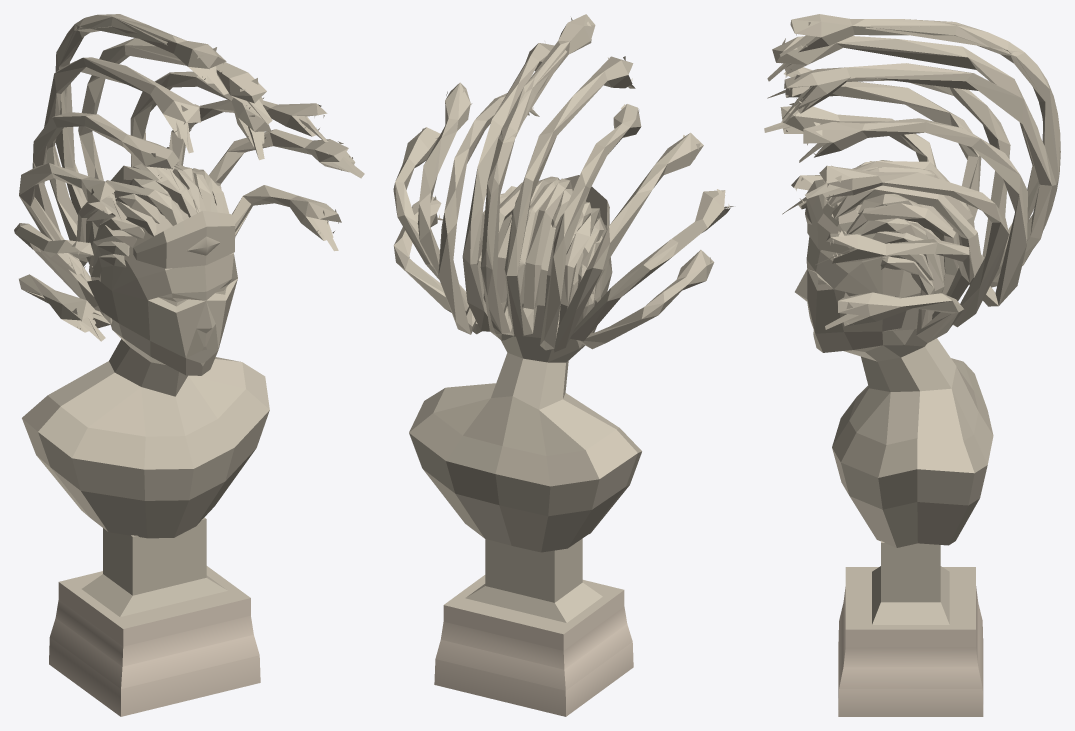
File: Medusa_Bust.fbx
3 renders of one model, left to right at view 1: azimuth 30°, elevation 25°; view 2: azimuth 150°, elevation 25°; view 3: azimuth 270°, elevation 25°, orthographic. The views are drawn at different scales.
Visible parts, largest first — view 1: Medusa Bust; view 2: Medusa Bust; view 3: Medusa Bust.
Boxes of the visible parts, x1,y1,x2,y2 form: Medusa Bust: [14, 14, 364, 716]; Medusa Bust: [393, 14, 733, 716]; Medusa Bust: [764, 14, 1060, 716].
Size of the model in its own units: 191 by 385 by 156.
